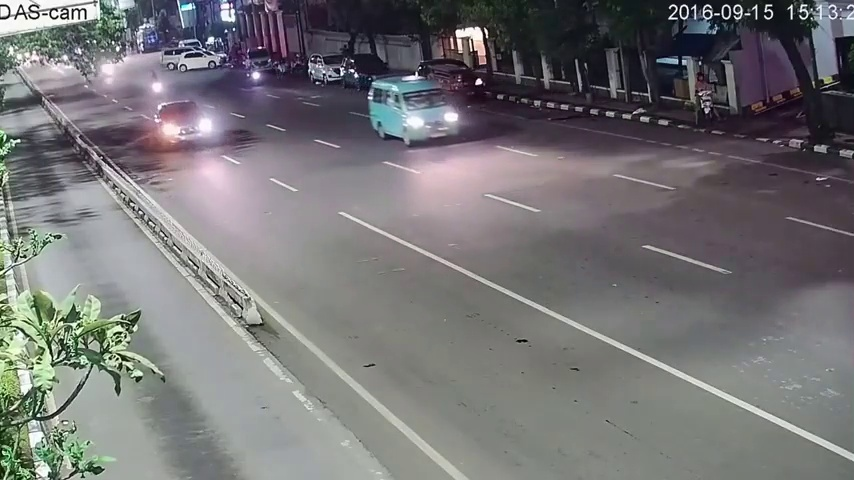car: (366, 73, 461, 144), (418, 58, 483, 107), (158, 99, 210, 147), (343, 51, 389, 89), (307, 52, 342, 84), (178, 49, 226, 70), (246, 47, 272, 74)
motorbike: (691, 73, 715, 130)
